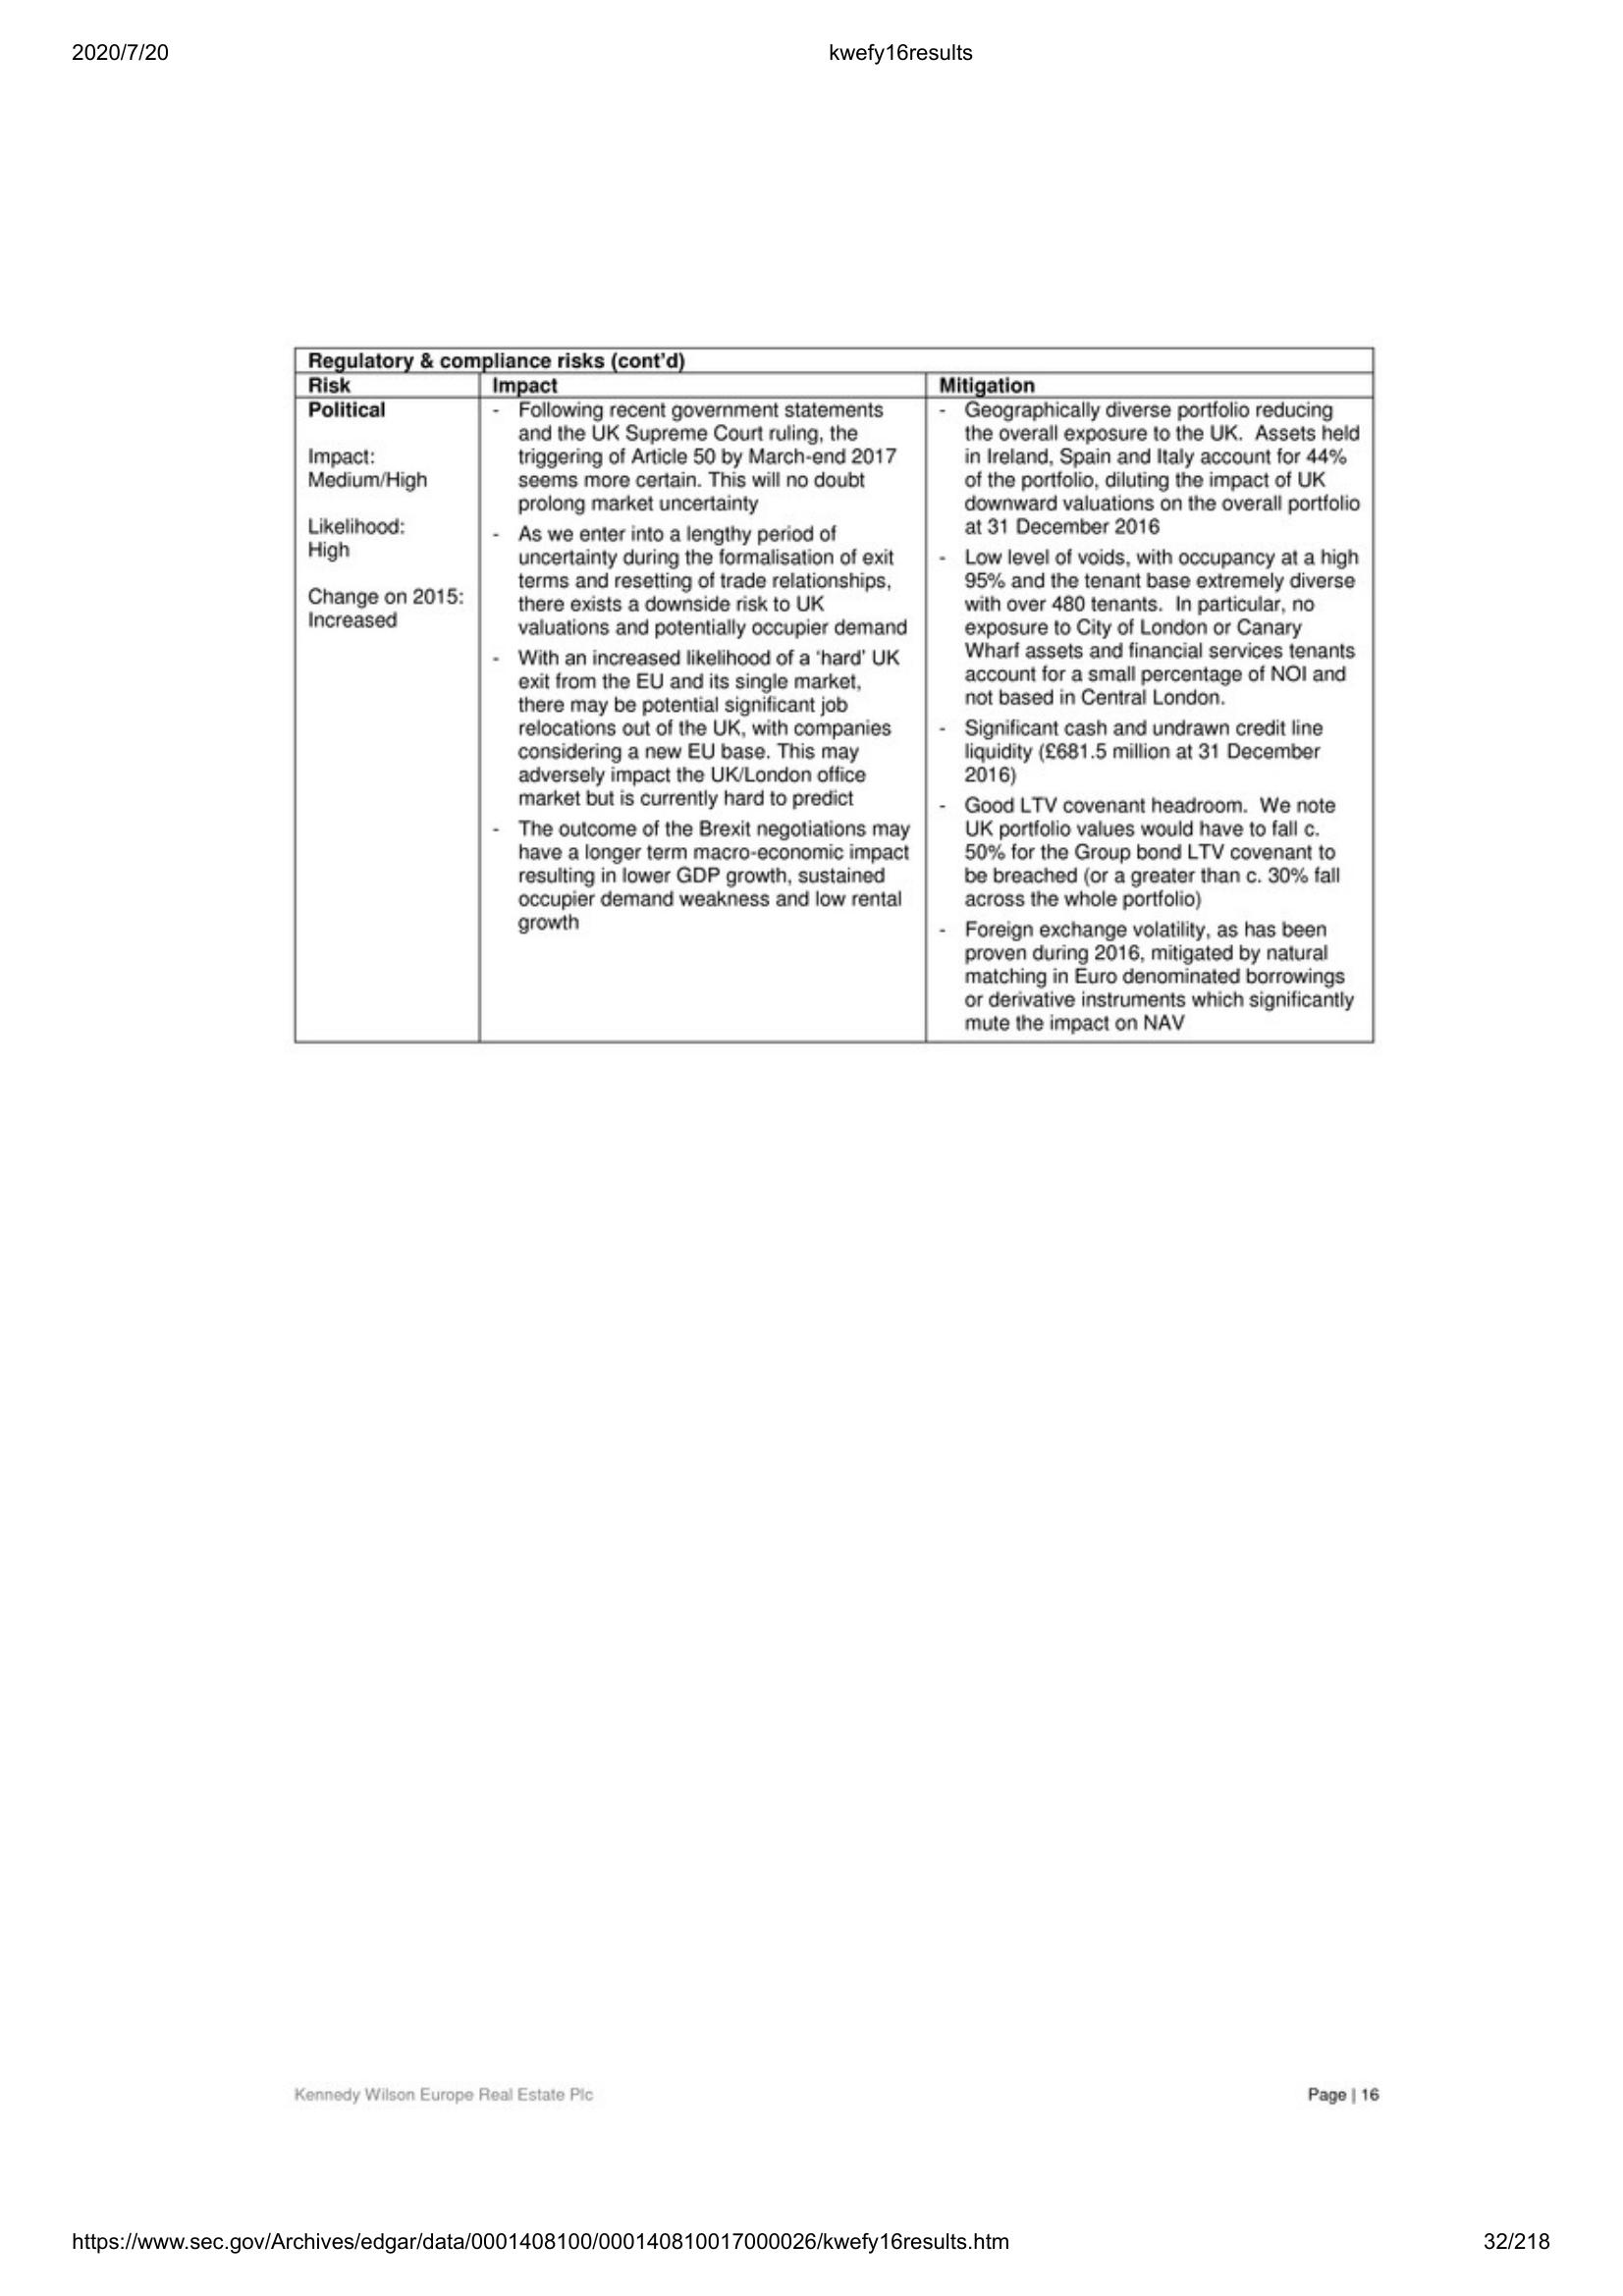table: (288, 337, 1381, 1053)
